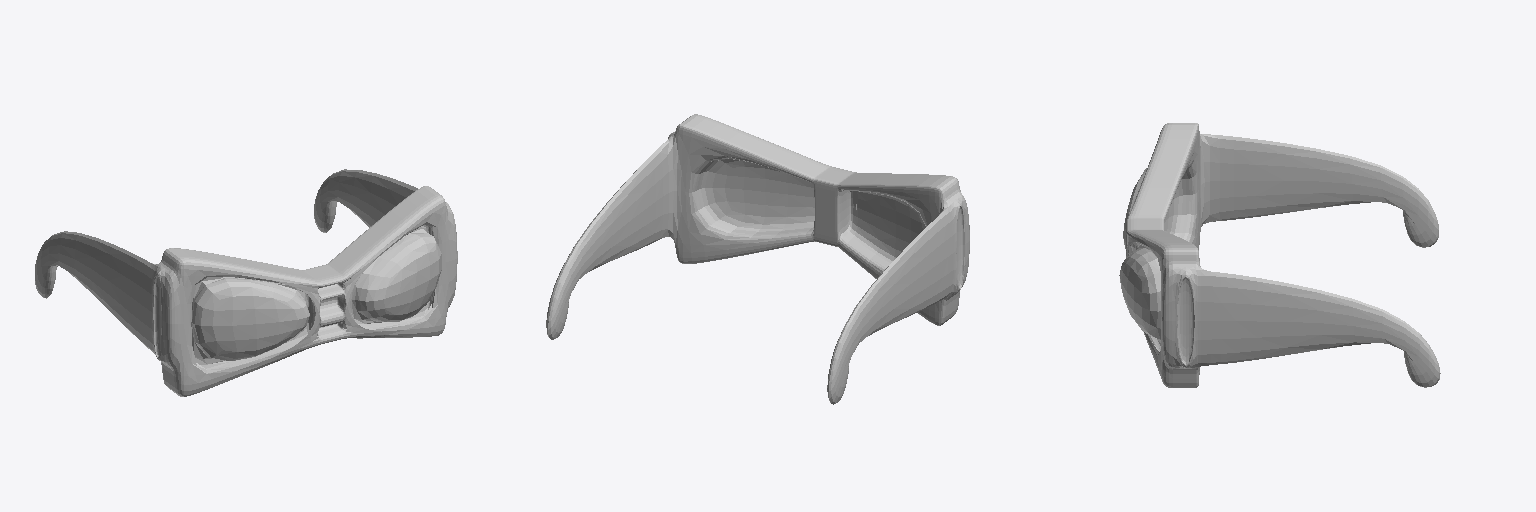
File: TheGlassesOBJ.obj
3 views of the same model, side by side, from view 1: azimuth 30°, elevation 25°; view 2: azimuth 150°, elevation 25°; view 3: azimuth 270°, elevation 25° (orthographic).
Visible parts, largest first — view 1: pCube1; view 2: pCube1; view 3: pCube1.
Part boxes in pixels (left/top/right/bottom): pCube1: left=35, top=169, right=457, bottom=396; pCube1: left=546, top=114, right=969, bottom=404; pCube1: left=1119, top=123, right=1440, bottom=387.
Bounding box in the file's own units: 13.27 × 6.06 × 12.67.